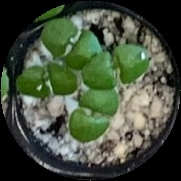Basil: (66, 86, 119, 143), (42, 21, 103, 68), (86, 47, 148, 89), (16, 65, 74, 100)
